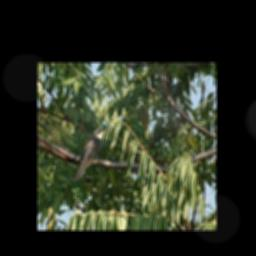Cuckoo: (71, 126, 106, 182)
